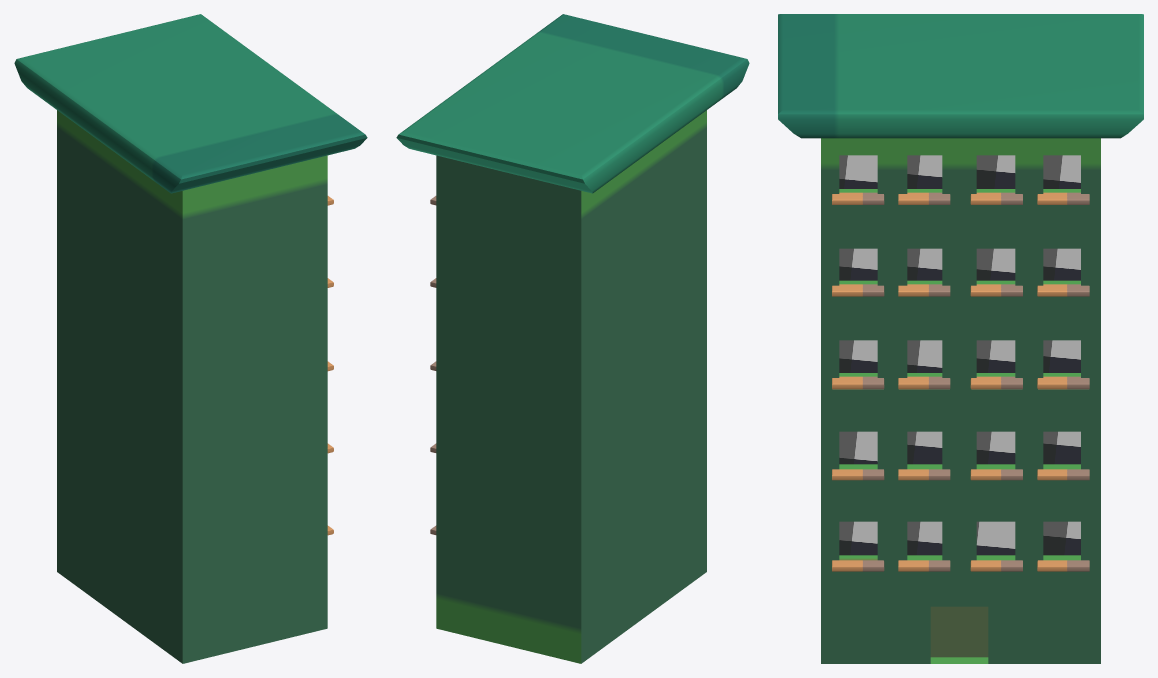
Rendered from BuildingTall_05C.fbx.
3 views of the same model, side by side, from view 1: azimuth 30°, elevation 25°; view 2: azimuth 150°, elevation 25°; view 3: azimuth 270°, elevation 25° (orthographic). The views are drawn at different scales.
Visible parts, largest first — view 1: polySurface1084; view 2: polySurface1084; view 3: polySurface1084.
Part boxes in pixels (x1=…): polySurface1084: x1=14, y1=14, x2=367, y2=663; polySurface1084: x1=396, y1=14, x2=749, y2=663; polySurface1084: x1=778, y1=14, x2=1143, y2=663.
Bounding box in the file's own units: 5.59 × 14.33 × 8.46.
